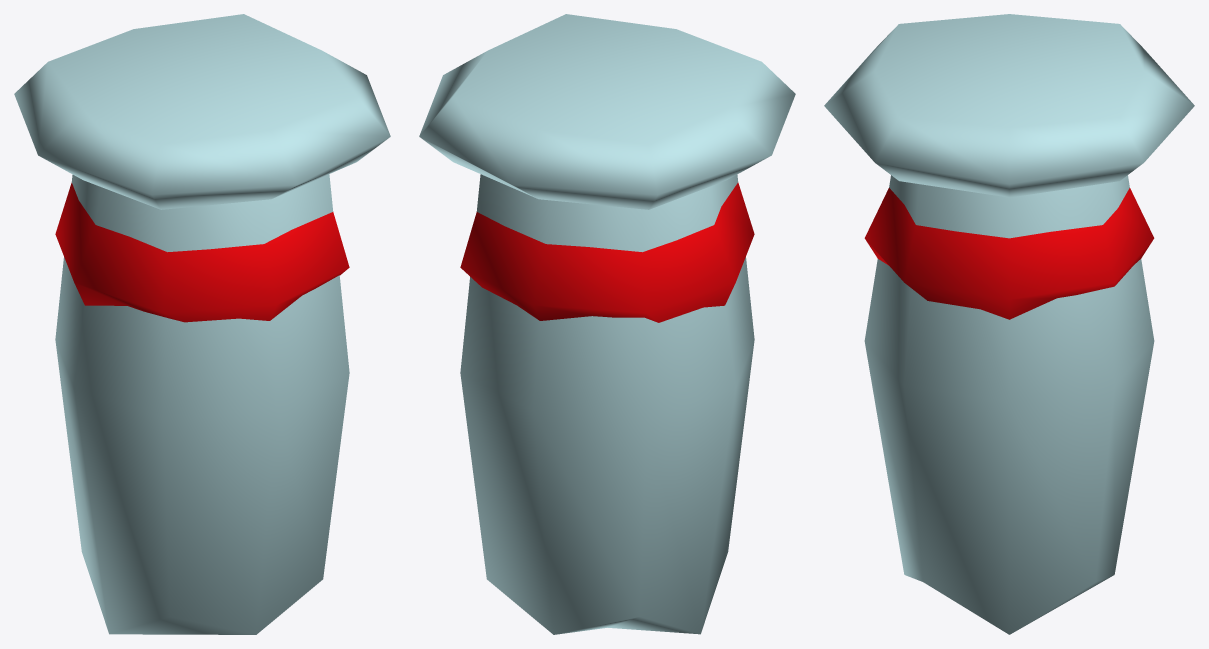
The model's file is bottle.glb.
3 renders of one model, left to right at view 1: azimuth 30°, elevation 25°; view 2: azimuth 150°, elevation 25°; view 3: azimuth 270°, elevation 25°, orthographic. The views are drawn at different scales.
Visible parts, largest first — view 1: Cube, Cube.001, Cube.002; view 2: Cube, Cube.001, Cube.002; view 3: Cube, Cube.001, Cube.002.
Part boxes in pixels (x1,y1,x2,y2): Cube: (55, 174, 349, 634); Cube.001: (14, 14, 390, 209); Cube.002: (55, 182, 349, 322); Cube: (460, 174, 754, 634); Cube.001: (419, 14, 795, 209); Cube.002: (460, 182, 754, 322); Cube: (864, 175, 1154, 634); Cube.001: (824, 14, 1194, 197); Cube.002: (864, 188, 1154, 319).
Size of the model in its own units: 2.15 by 3.43 by 2.15.
